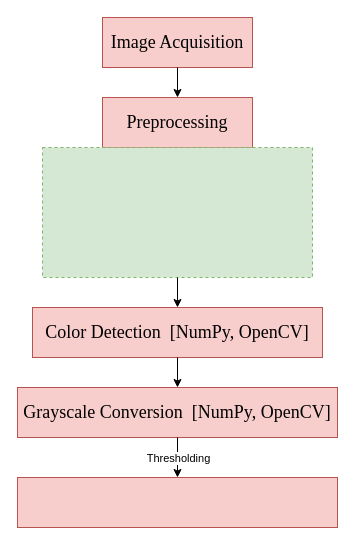
Image size: 355x545. Some labels were removed from this diagram. The box of each missing label's shape, as (x1, y1, x2, y2) in pixels:
Binary Image Conversion [OpenCV]: (16, 476, 338, 528)
Crop [Matplotlib] Gaussian Blur [OpenCV] Enhancement [NumPy, OpenCV]: (42, 146, 312, 278)
